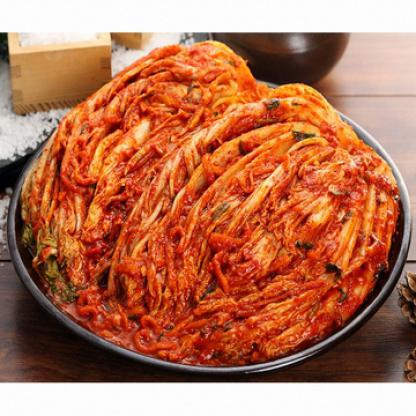kimchi: (100, 77, 404, 364), (19, 36, 268, 300)
